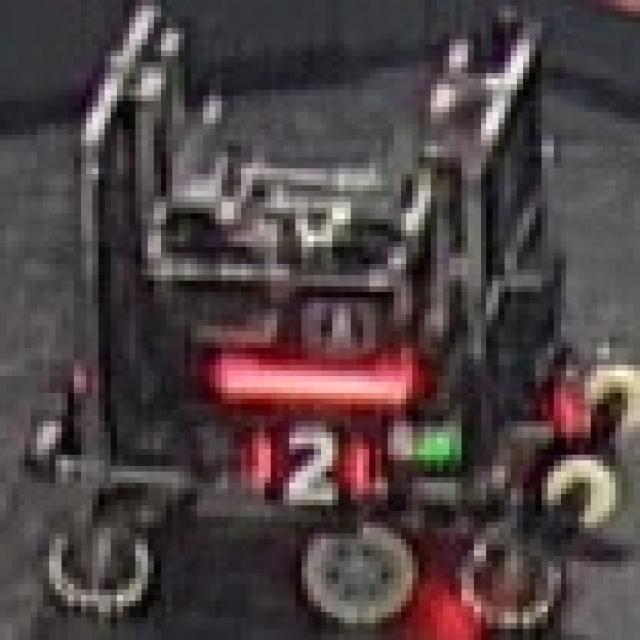R2: (228, 421, 375, 511)
